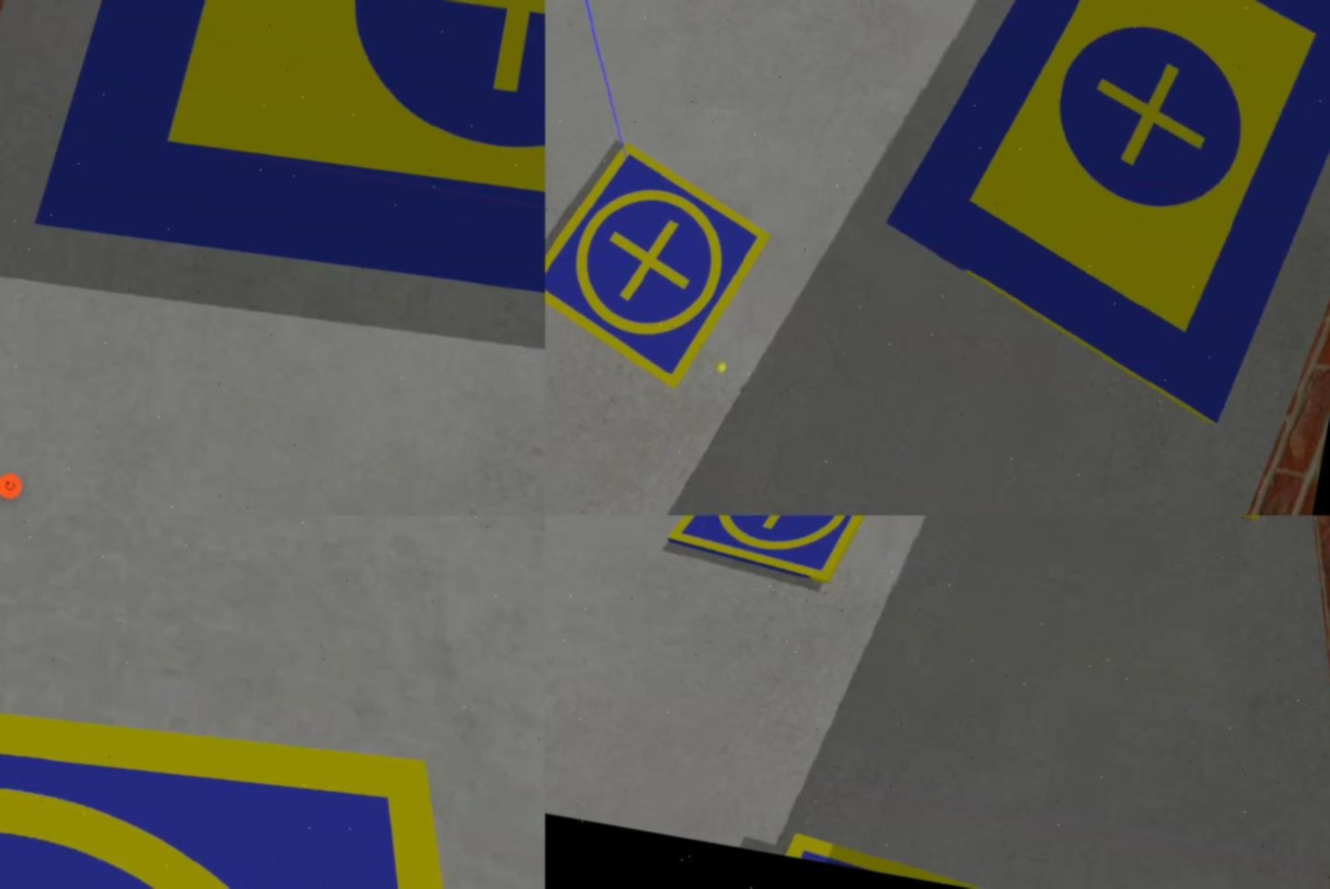large_base: (857, 1, 1330, 439), (36, 1, 545, 378)
small_base: (1, 591, 545, 889), (545, 133, 783, 398), (662, 516, 897, 597)
